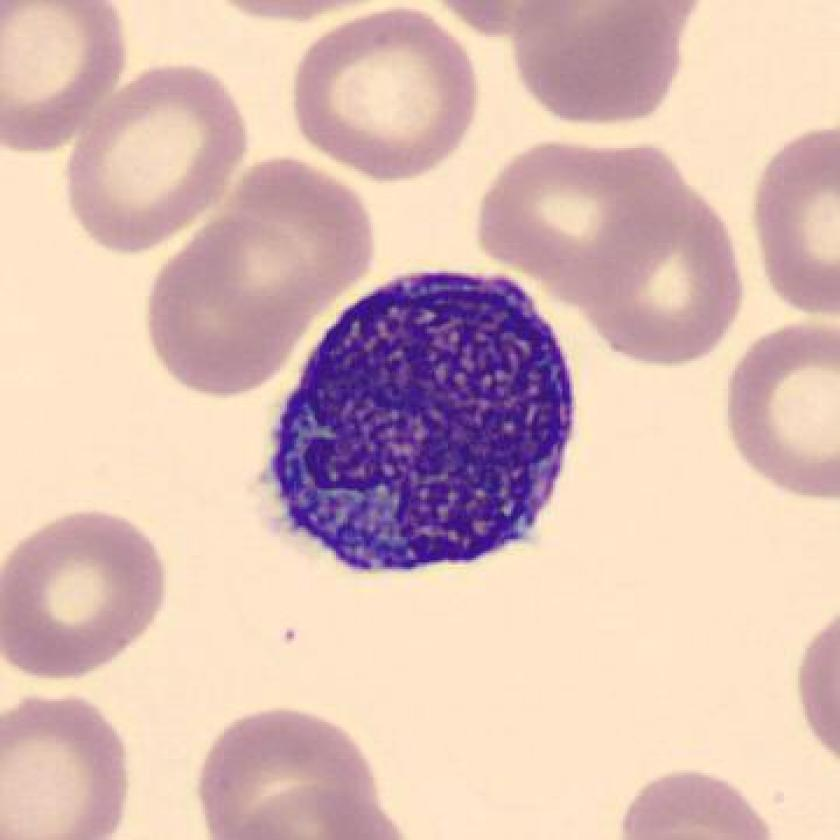monocyte: (256, 249, 592, 596)
